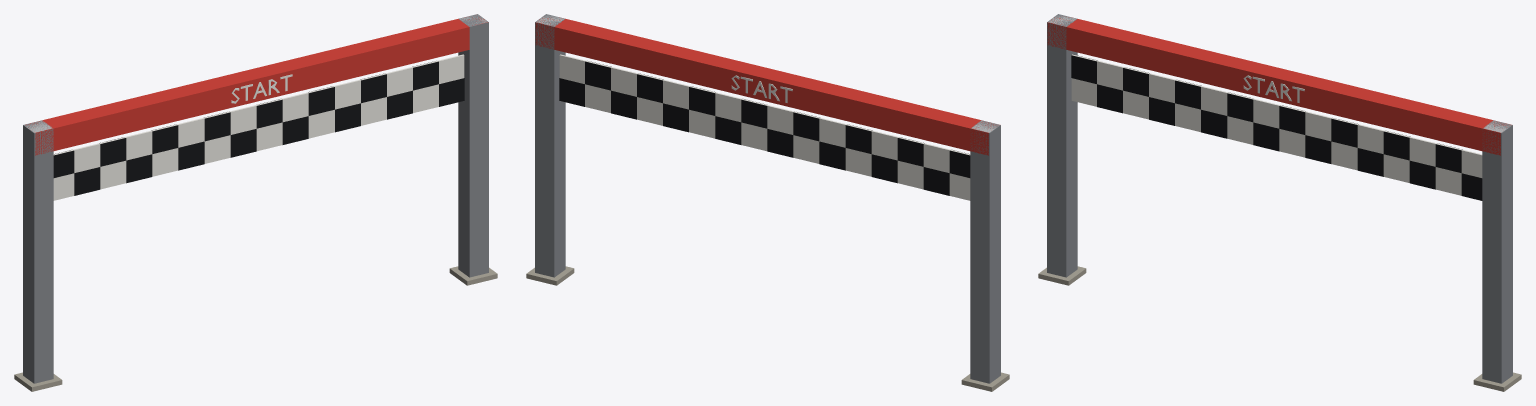
Rendered from prop_start_banner.glb.
3 renders of one model, left to right at view 1: azimuth 30°, elevation 25°; view 2: azimuth 150°, elevation 25°; view 3: azimuth 330°, elevation 25°, orthographic.
Visible parts, largest first — view 1: prop_start_banner__mesh, prop_start_banner__col; view 2: prop_start_banner__mesh, prop_start_banner__col; view 3: prop_start_banner__mesh, prop_start_banner__col.
Part boxes in pixels (left/top/right/bottom): prop_start_banner__mesh: left=14, top=15, right=497, bottom=391; prop_start_banner__col: left=23, top=14, right=488, bottom=383; prop_start_banner__mesh: left=526, top=16, right=1009, bottom=391; prop_start_banner__col: left=535, top=14, right=1000, bottom=383; prop_start_banner__mesh: left=1038, top=16, right=1521, bottom=391; prop_start_banner__col: left=1047, top=14, right=1512, bottom=383.
Size of the model in its own units: 10.7 by 5.6 by 0.7.
1 material, 1 textured.
